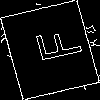F: (25, 25, 83, 66)
